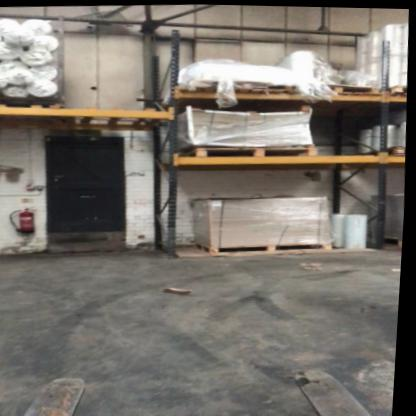vertical_damage: (170, 219, 186, 236)
